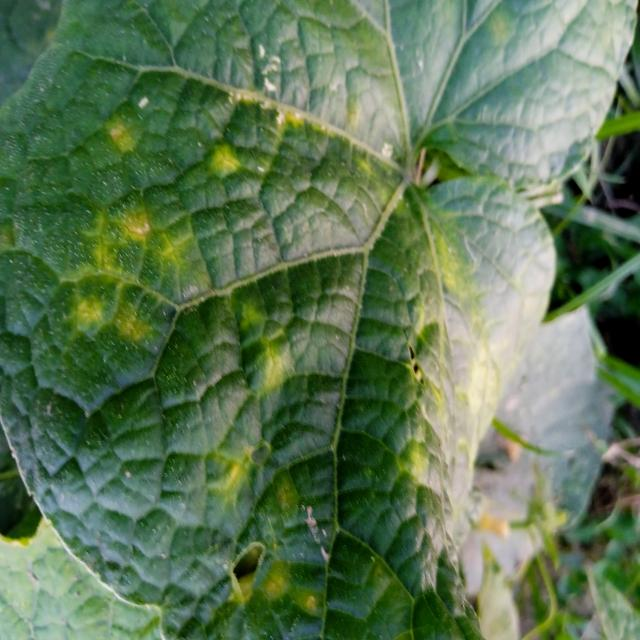cucumber_downy: (9, 22, 452, 636)
